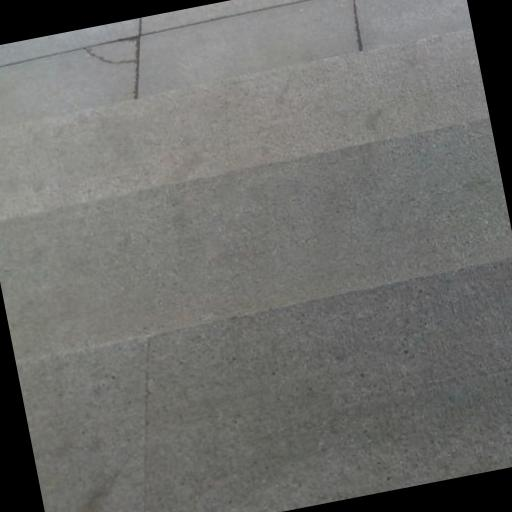stairs: (0, 31, 511, 511)
